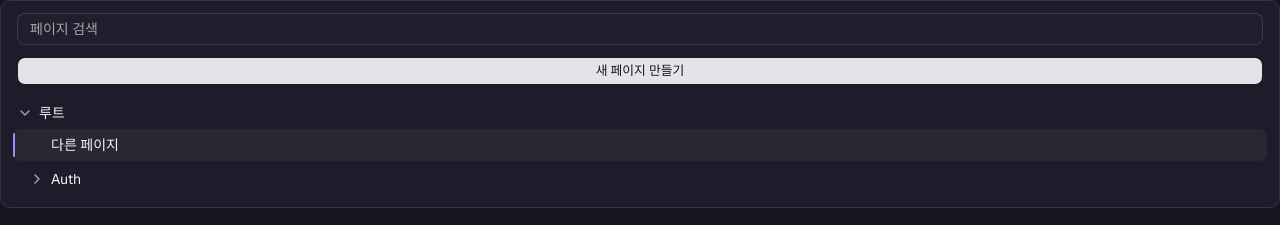
Test: PageTreeSidebar › 검색어를 입력하면 매칭 페이지와 그 조상만 남고, 매칭 조상이 자동으로 펼쳐진다
The image size is (1280, 225).
Expected: the link "다른 페이지" is shown, [51,136,119,154]
Expected: the link "Login flow" is not shown
Type "auth" into the search field named "페이지 트리 검색" at (640, 29), box [17,13,1263,45]
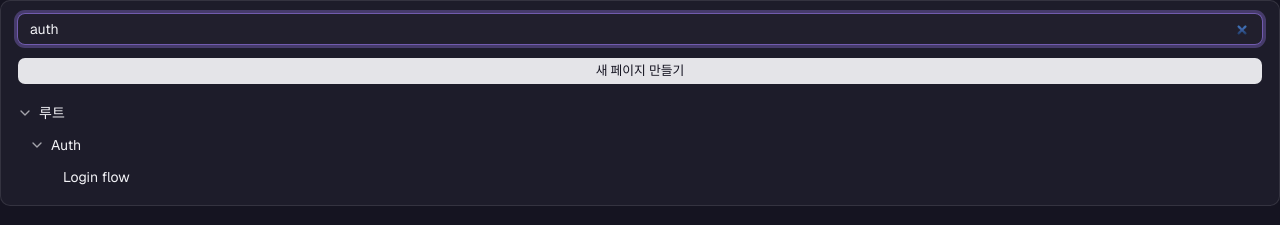
Expected: the link "다른 페이지" is gone
Expected: the link "Auth" is shown, [51,136,81,154]
Expected: the link "Login flow" is shown, [63,168,130,186]
